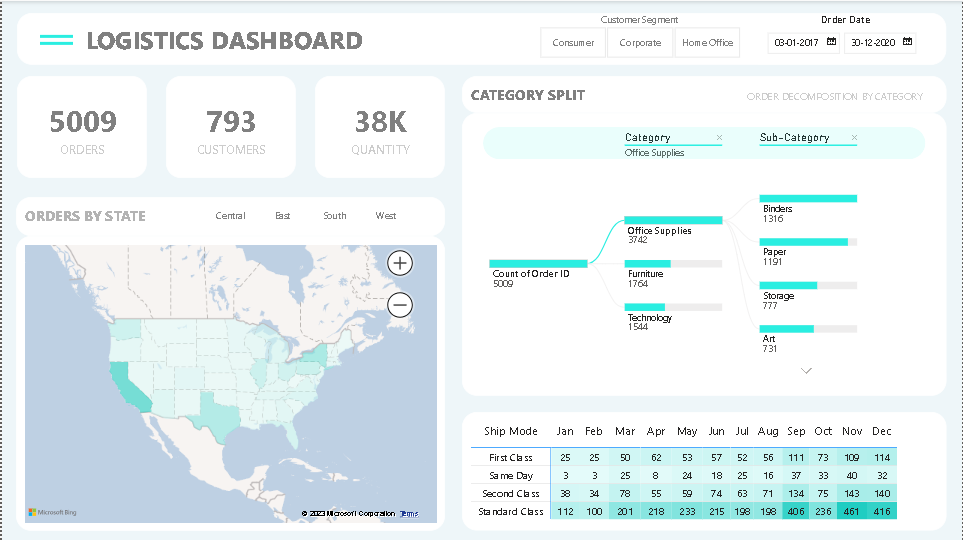

Layout of this report page (visuals, bound fields, positions):
{"tool":"powerbi","page":{"name":"Logistics Dashboard","canvas":[1280,720],"ordinal":0},"visuals":[{"type":"shape","box":[50.8,30.6,44,33],"z":0,"group":"g4"},{"type":"card","fields":{"Values":["Count(Sheet1.Order ID)"]},"box":[20.6,100.4,173.2,136.1],"z":0},{"type":"decompositionTreeVisual","fields":{"Analyze":["Count(Sheet1.Order ID)"],"ExplainBy":["Sheet1.Category","Sheet1.Sub-Category"]},"box":[613.2,149.3,646.2,377.3],"z":0,"group":"g1"},{"type":"shape","box":[50.8,40.2,44,33],"z":1000,"group":"g4"},{"type":"card","fields":{"Values":["Sum(Sheet1.Quantity)"]},"box":[418,100.4,173.2,136.1],"z":1000},{"type":"shape","box":[640.7,168.3,589.8,43.4],"z":1000,"group":"g1"},{"type":"card","fields":{"Values":["Count(Sheet1.Customer ID)"]},"box":[218.6,100.4,173.2,136.1],"z":2000},{"type":"textbox","box":[613.2,100.4,646.2,48.9],"z":2000,"group":"g1"},{"type":"pivotTable","fields":{"Columns":["Sheet1.Short Month"],"Rows":["Sheet1.Ship Mode"],"Values":["Count(Sheet1.Order ID)"]},"box":[613.2,548.6,646.2,158.1],"z":3000},{"type":"group","id":"g1","title":"Group 1","box":[613.2,100.4,646.2,426.2],"z":4000},{"type":"filledMap","fields":{"Category":["Sheet1.State"]},"box":[19.2,313.4,571.9,393.2],"z":4000,"group":"g2"},{"type":"textbox","box":[20.6,16.5,1238.8,68.7],"z":5000,"group":"g3"},{"type":"group","id":"g2","title":"Group 2","box":[19.2,261.2,571.9,445.5],"z":5000},{"type":"textbox","box":[19.2,261.2,571.9,52.2],"z":5000,"group":"g2"},{"type":"group","id":"g3","title":"Group 4","box":[20.6,16.5,1238.8,68.7],"z":6000},{"type":"group","id":"g4","title":"Group 3","box":[50.8,30.6,44,42.6],"z":6000,"group":"g3"},{"type":"slicer","fields":{"Values":["Sheet1.Region"]},"box":[246.1,262.6,324.5,48.1],"z":6000,"group":"g2"},{"type":"slicer","title":"Order Date","fields":{"Values":["Sheet1.Order Date"]},"box":[1009.1,17.9,233.7,67.4],"z":7000,"group":"g3"},{"type":"slicer","title":"Customer Segment","fields":{"Values":["Sheet1.Segment"]},"box":[692.9,17.9,316.2,64.6],"z":8001,"group":"g3"}]}

Visuals, with their boxes in screenshot pixels (x1, y1, x2, y2), scaled from the page's 1280x720 canvas onto the 963x540 screenshot:
shape: rect(38, 23, 71, 48)
card - Count(Sheet1.Order ID): rect(15, 75, 146, 177)
decompositionTreeVisual - Count(Sheet1.Order ID) x Sheet1.Category: rect(461, 112, 948, 395)
shape: rect(38, 30, 71, 55)
card - Sum(Sheet1.Quantity): rect(314, 75, 445, 177)
shape: rect(482, 126, 926, 159)
card - Count(Sheet1.Customer ID): rect(164, 75, 295, 177)
textbox: rect(461, 75, 948, 112)
pivotTable - Sheet1.Short Month x Sheet1.Ship Mode: rect(461, 411, 948, 530)
"Group 1" group: rect(461, 75, 948, 395)
filledMap - Sheet1.State: rect(14, 235, 445, 530)
textbox: rect(15, 12, 948, 64)
"Group 2" group: rect(14, 196, 445, 530)
textbox: rect(14, 196, 445, 235)
"Group 4" group: rect(15, 12, 948, 64)
"Group 3" group: rect(38, 23, 71, 55)
slicer - Sheet1.Region: rect(185, 197, 429, 233)
"Order Date" slicer: rect(759, 13, 935, 64)
"Customer Segment" slicer: rect(521, 13, 759, 62)
